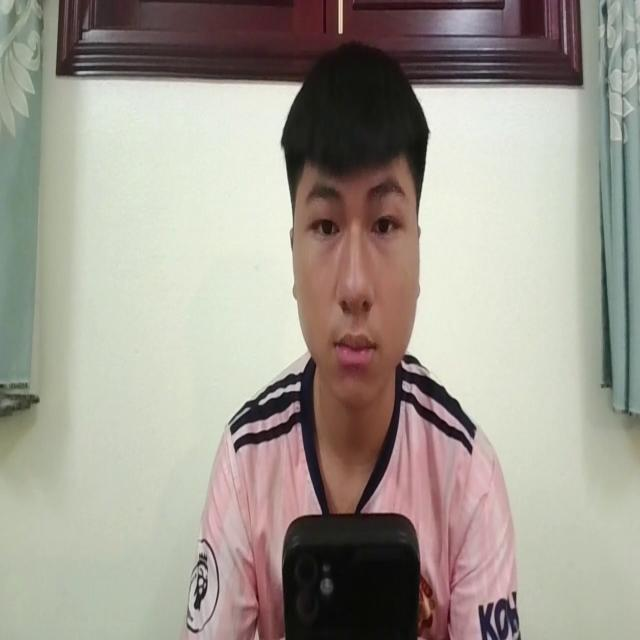phone: (282, 504, 420, 640)
student: (191, 31, 518, 640)
